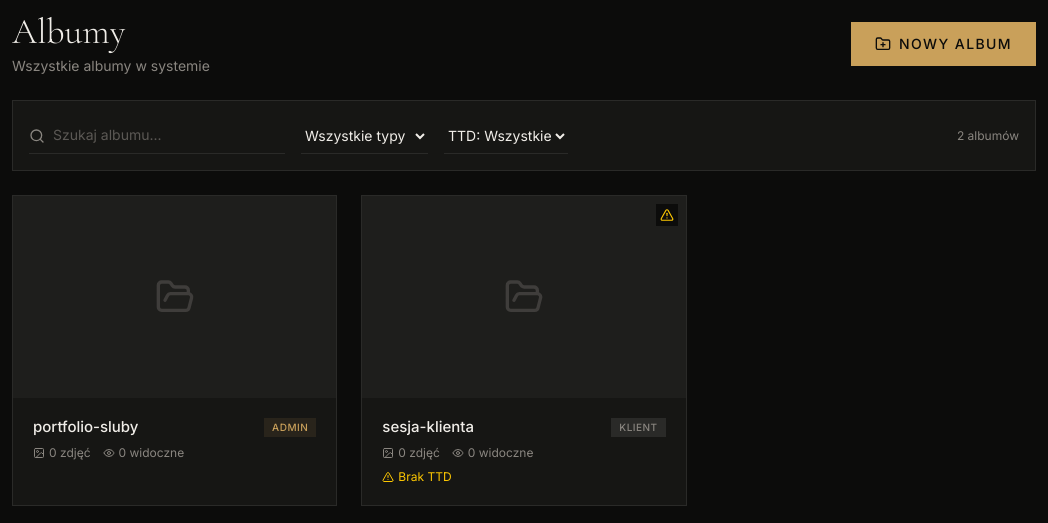
Test case: AdminAlbums › The counter describes the filtered list, so it agrees with the cards on screen
Expected: the text "2 albumów" is shown, [957,128,1019,144]
Select "Administracyjne" in the 1st dropdown at (364, 136), box [301,118,428,154]
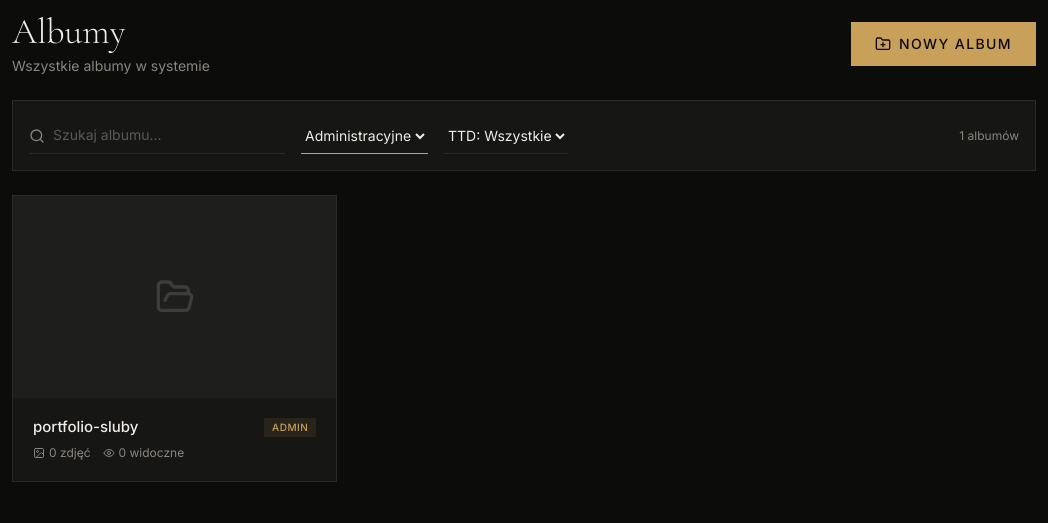
Expected: the text "1 albumów" is shown, [959,128,1019,144]
